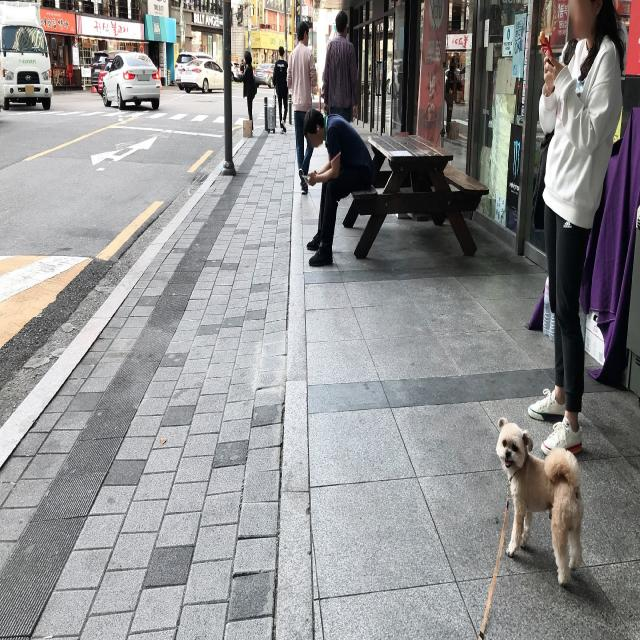횡단보도: (0, 107, 253, 122), (256, 104, 294, 123)
